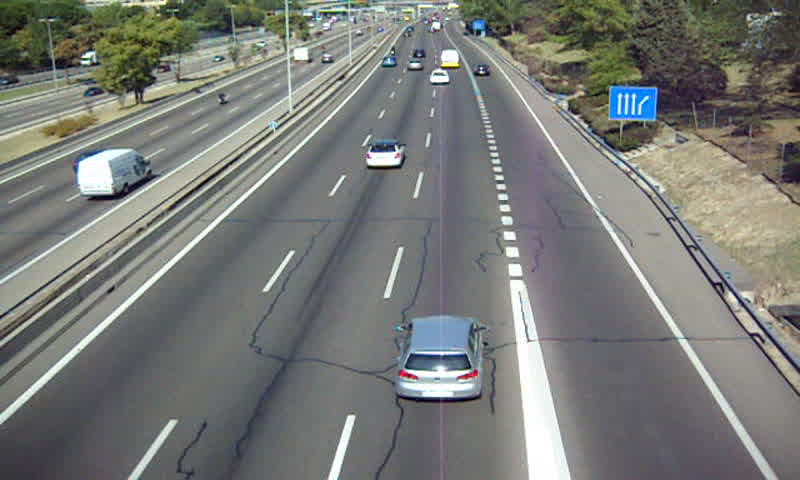car: (396, 316, 483, 401), (365, 140, 406, 167), (429, 71, 451, 84), (472, 65, 490, 78)
